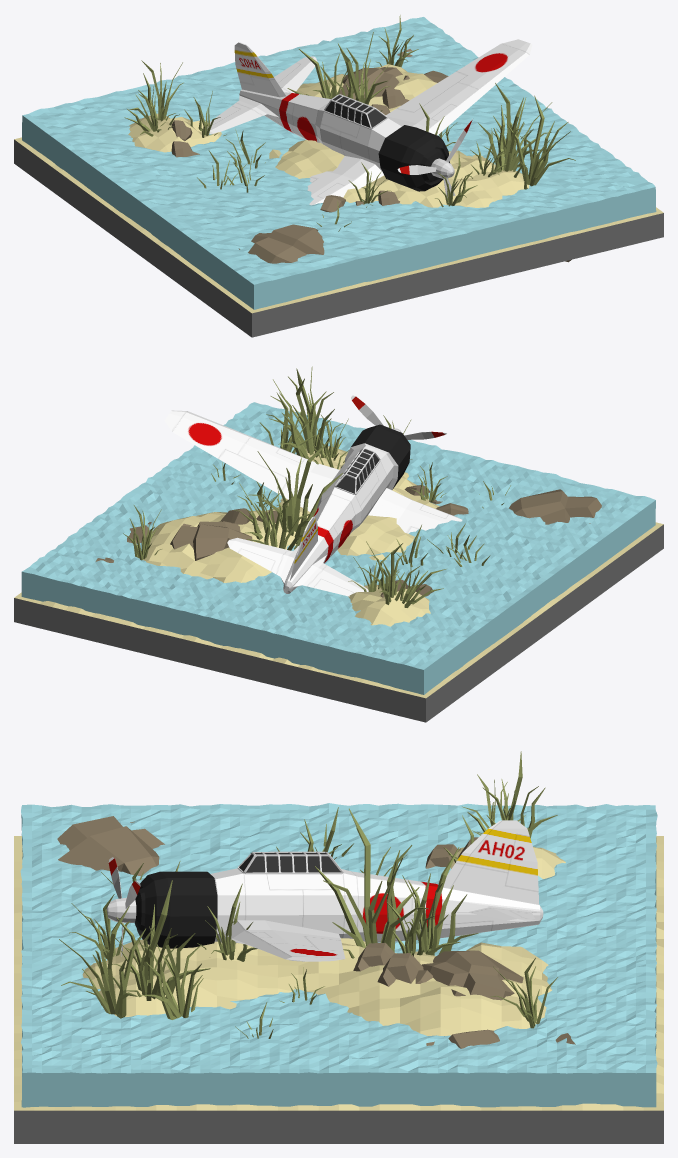
Rendered from home-island.glb.
The picture shows the model from 3 angles, top to bottom: view 1: azimuth 30°, elevation 25°; view 2: azimuth 150°, elevation 25°; view 3: azimuth 270°, elevation 25°; orthographic projection. The views are drawn at different scales.
Parts seen in each view (by area): view 1: water_Web, ground_Web, Cylinder_Web, Cylinder.002_Web, rock_Web, Vert.010_Web, Vert.013_Web, rock.008_Web, Vert.003_Web, Cylinder.001_Web, Vert_Web, Plane_Web (+5 smaller); view 2: water_Web, ground_Web, Cylinder_Web, rock_Web, rock.008_Web, Vert.003_Web, Cylinder.002_Web, Vert.010_Web, Vert.004_Web, Vert_Web, Vert.013_Web, Cylinder.001_Web (+6 smaller); view 3: water_Web, ground_Web, Cylinder_Web, Cylinder.002_Web, rock_Web, Vert.003_Web, rock.008_Web, Vert.013_Web, Vert.010_Web, Vert.011_Web, Vert.004_Web, Cylinder.001_Web (+11 smaller).
Part boxes in pixels (<box>): water_Web: <box>22,17,656,309</box>; ground_Web: <box>14,64,663,337</box>; Cylinder_Web: <box>207,39,532,205</box>; Cylinder.002_Web: <box>378,125,449,191</box>; rock_Web: <box>238,224,324,263</box>; Vert.010_Web: <box>478,83,552,177</box>; Vert.013_Web: <box>507,95,575,189</box>; rock.008_Web: <box>339,67,409,99</box>; Vert.003_Web: <box>306,32,387,111</box>; Cylinder.001_Web: <box>325,95,385,127</box>; Vert_Web: <box>138,60,183,125</box>; Plane_Web: <box>397,119,472,197</box>; water_Web: <box>21,402,655,694</box>; ground_Web: <box>14,446,663,722</box>; Cylinder_Web: <box>164,410,462,596</box>; rock_Web: <box>509,489,601,524</box>; rock.008_Web: <box>170,521,252,560</box>; Vert.003_Web: <box>248,439,342,545</box>; Cylinder.002_Web: <box>351,424,410,489</box>; Vert.010_Web: <box>266,378,334,458</box>; Vert.004_Web: <box>247,478,314,550</box>; Vert_Web: <box>358,541,419,604</box>; Vert.013_Web: <box>269,366,342,449</box>; Cylinder.001_Web: <box>336,449,379,493</box>; water_Web: <box>20,803,657,1107</box>; ground_Web: <box>14,836,663,1143</box>; Cylinder_Web: <box>210,820,543,961</box>; Cylinder.002_Web: <box>134,871,217,948</box>; rock_Web: <box>57,816,164,876</box>; Vert.003_Web: <box>314,808,428,958</box>; rock.008_Web: <box>422,950,523,1000</box>; Vert.013_Web: <box>59,906,145,1018</box>; Vert.010_Web: <box>113,880,210,1000</box>; Vert.011_Web: <box>139,926,203,1019</box>; Vert.004_Web: <box>395,847,478,955</box>; Cylinder.001_Web: <box>239,853,340,872</box>.
Size of the model in its own units: 8 by 3.09 by 8.
Materials: 11 (1 with a texture image).
